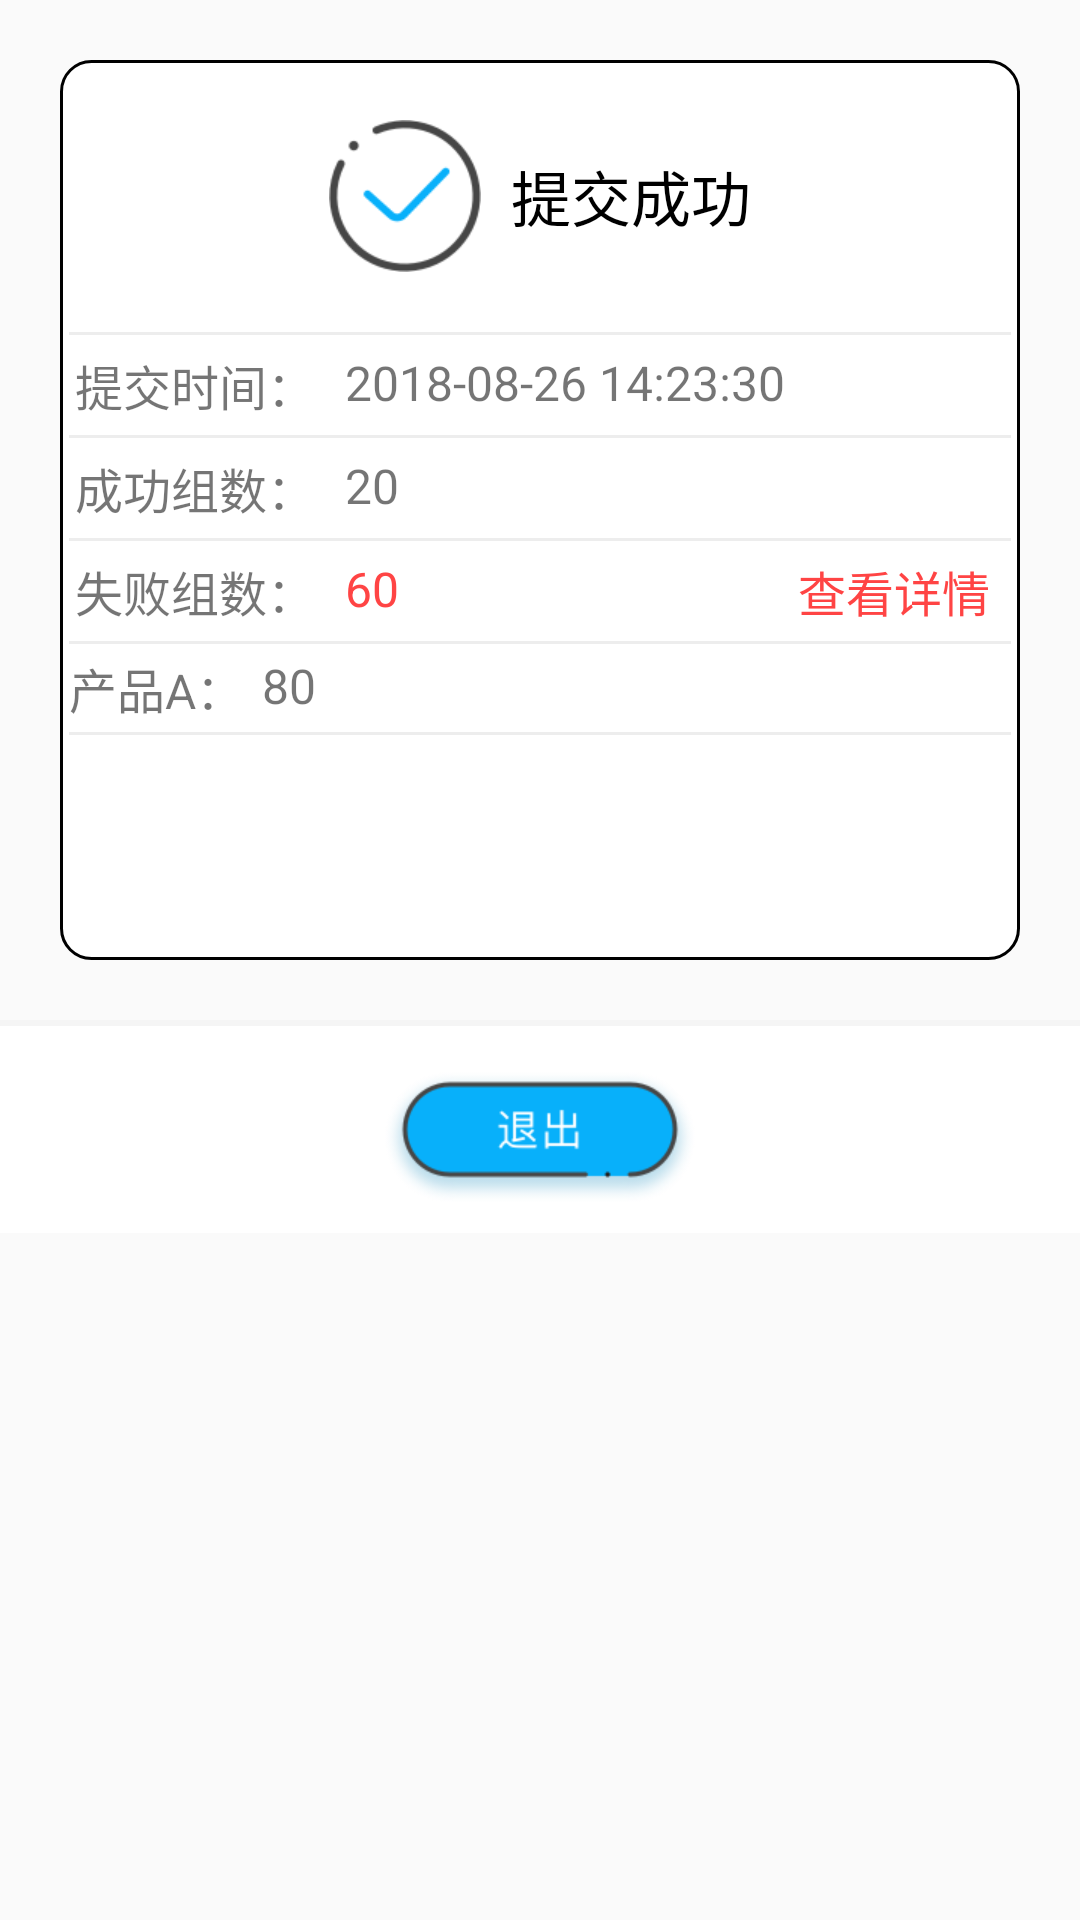

Screen size 1080px×1920px. Icon name, then its center in pixels as point (x, y):
success: point (405, 196)
